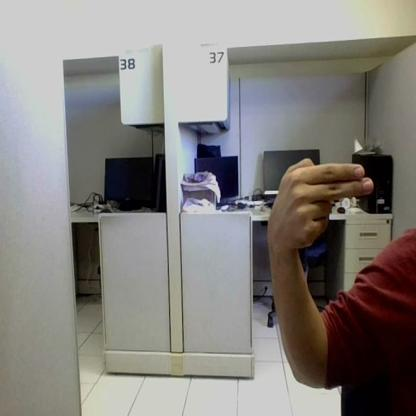H: (280, 158, 372, 248)
